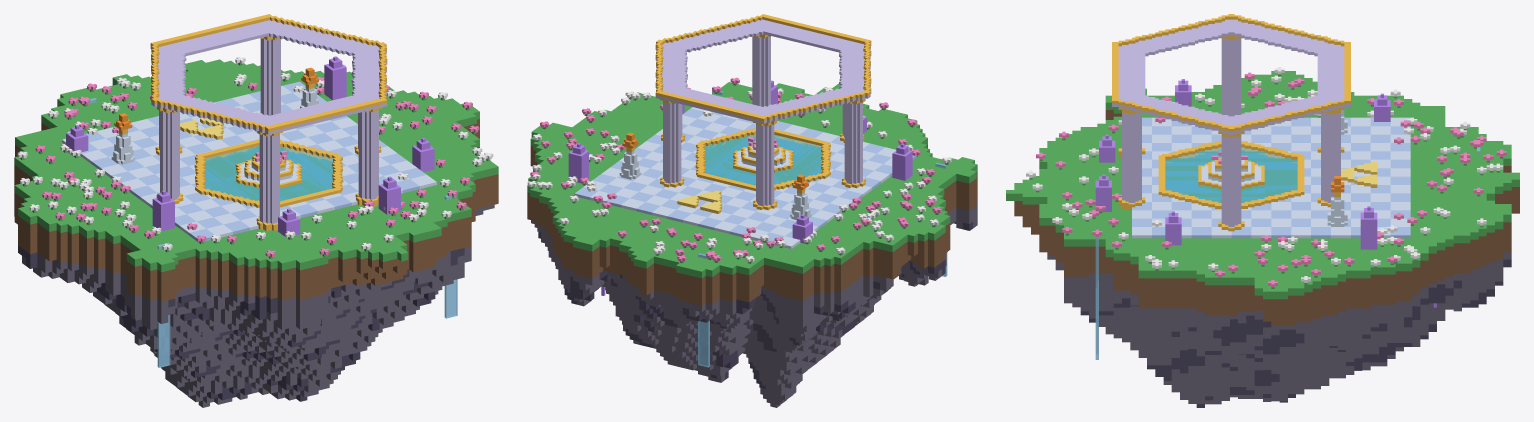
File: fuente_hadas.obj
The picture shows the model from 3 angles, left to right: view 1: azimuth 30°, elevation 25°; view 2: azimuth 150°, elevation 25°; view 3: azimuth 270°, elevation 25°; orthographic projection. The views are drawn at different scales.
Parts seen in each view (by area): view 1: pasto, roca, tierra, techo, baldosa_b, baldosa_a, columnas, roca_oscura, flor_blanca, cristales, flor_rosa, techo_oro (+9 smaller); view 2: pasto, roca, tierra, baldosa_b, baldosa_a, techo, columnas, roca_oscura, flor_blanca, flor_rosa, techo_oro, agua (+8 smaller); view 3: pasto, roca, tierra, baldosa_a, baldosa_b, techo, columnas, roca_oscura, flor_rosa, agua, flor_blanca, techo_oro (+8 smaller).
Part boxes in pixels (bbox=[...]): pasto: bbox=[14, 59, 498, 272]; roca: bbox=[14, 194, 494, 407]; tierra: bbox=[14, 85, 498, 301]; techo: bbox=[150, 20, 387, 134]; baldosa_b: bbox=[80, 81, 426, 242]; baldosa_a: bbox=[62, 86, 436, 237]; columnas: bbox=[159, 38, 378, 223]; roca_oscura: bbox=[14, 209, 464, 401]; flor_blanca: bbox=[17, 56, 493, 250]; cristales: bbox=[66, 56, 434, 236]; flor_rosa: bbox=[35, 77, 479, 257]; techo_oro: bbox=[150, 14, 387, 131]; pasto: bbox=[527, 82, 977, 278]; roca: bbox=[531, 198, 977, 407]; tierra: bbox=[527, 145, 977, 305]; baldosa_b: bbox=[574, 108, 916, 245]; baldosa_a: bbox=[584, 107, 896, 248]; techo: bbox=[655, 19, 871, 124]; columnas: bbox=[663, 36, 862, 206]; roca_oscura: bbox=[538, 222, 972, 388]; flor_blanca: bbox=[527, 87, 951, 262]; flor_rosa: bbox=[530, 77, 941, 261]; techo_oro: bbox=[655, 14, 871, 121]; agua: bbox=[704, 134, 821, 185]; pasto: bbox=[1006, 71, 1519, 299]; roca: bbox=[1047, 252, 1511, 404]; tierra: bbox=[1014, 110, 1519, 325]; baldosa_a: bbox=[1132, 117, 1410, 238]; baldosa_b: bbox=[1132, 117, 1410, 238]; techo: bbox=[1112, 19, 1350, 134]; columnas: bbox=[1122, 38, 1340, 226]; roca_oscura: bbox=[1080, 259, 1511, 407]; flor_rosa: bbox=[1036, 72, 1506, 287]; agua: bbox=[1165, 147, 1297, 202]; flor_blanca: bbox=[1026, 67, 1503, 282]; techo_oro: bbox=[1112, 14, 1350, 131].
Size of the model in its own units: 15.75 by 11.6 by 15.5.
